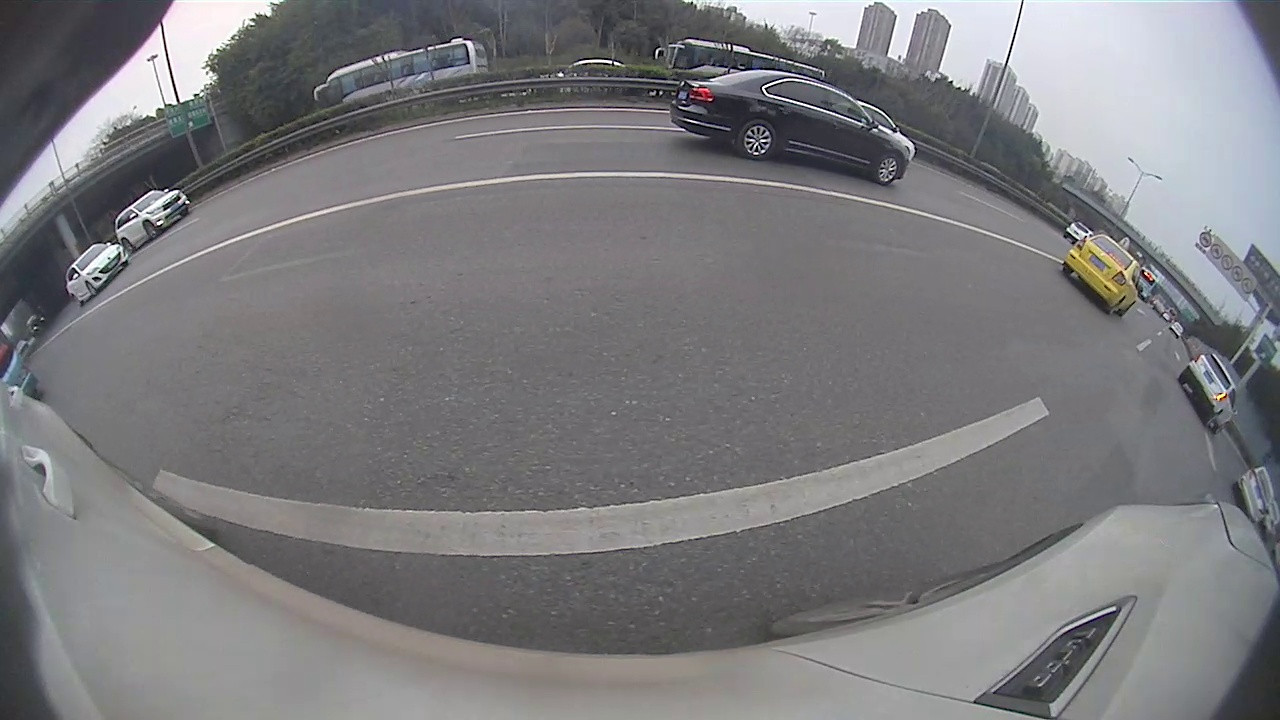car: (673, 66, 910, 184), (1064, 230, 1138, 316), (110, 188, 191, 248), (1179, 350, 1237, 431), (63, 243, 128, 301)
front: (874, 154, 904, 186), (142, 220, 160, 241), (85, 283, 98, 300)
rear: (739, 119, 779, 161), (120, 239, 133, 255)
truck: (313, 37, 491, 108)
